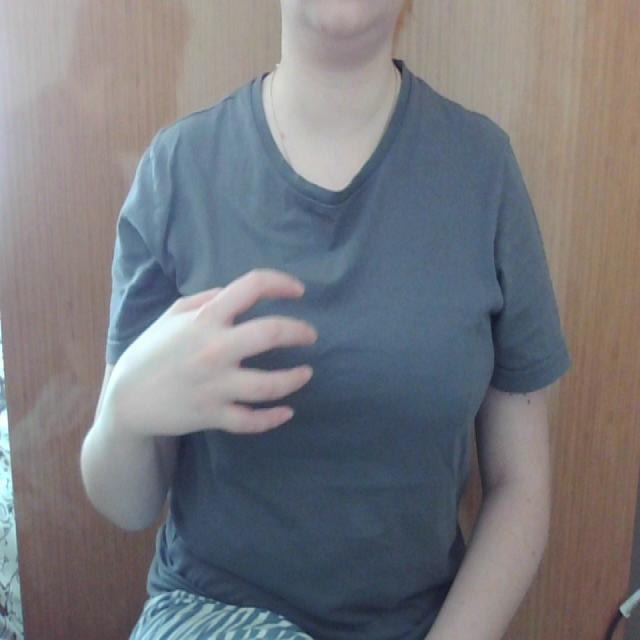Anne: (82, 243, 481, 439)
